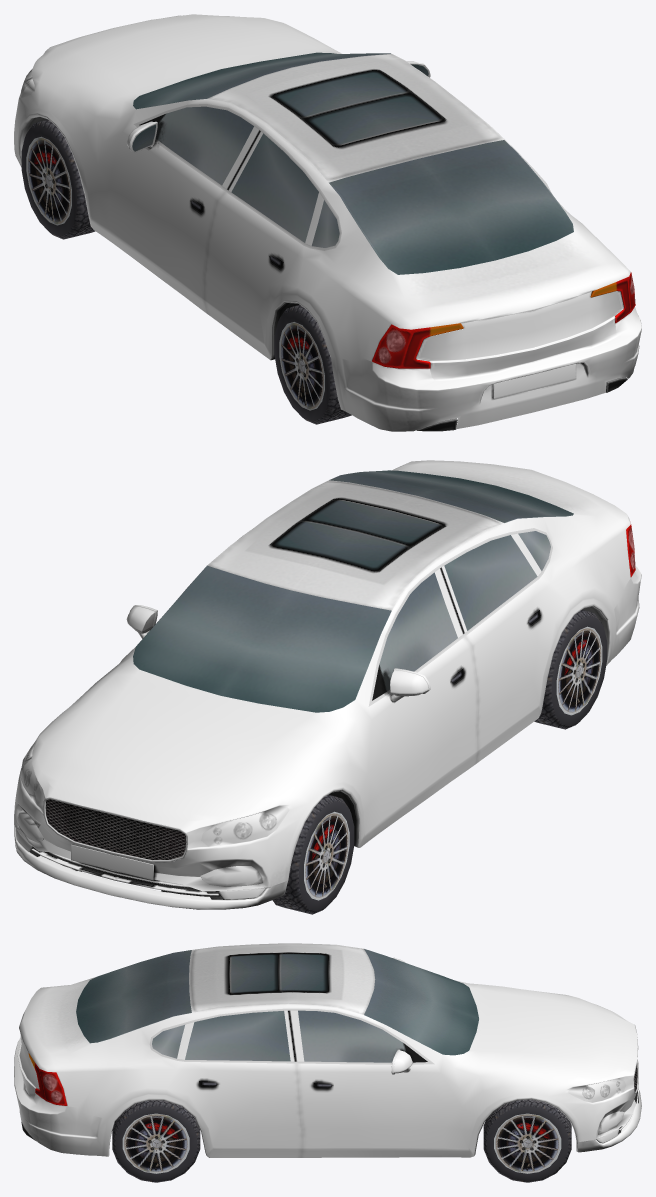
The model's file is Car_2.glb.
3 views of the same model, one above another, from view 1: azimuth 30°, elevation 25°; view 2: azimuth 150°, elevation 25°; view 3: azimuth 270°, elevation 25° (orthographic). The views are drawn at different scales.
Visible parts, largest first — view 1: Car_Torso_2; view 2: Car_Torso_2; view 3: Car_Torso_2.
Part boxes in pixels (x1,y1,x2,y2): Car_Torso_2: (14, 14, 641, 431); Car_Torso_2: (14, 460, 641, 914); Car_Torso_2: (14, 943, 641, 1182).
Bounding box in the file's own units: 2.19 × 1.55 × 5.41.
1 material, 1 textured.
